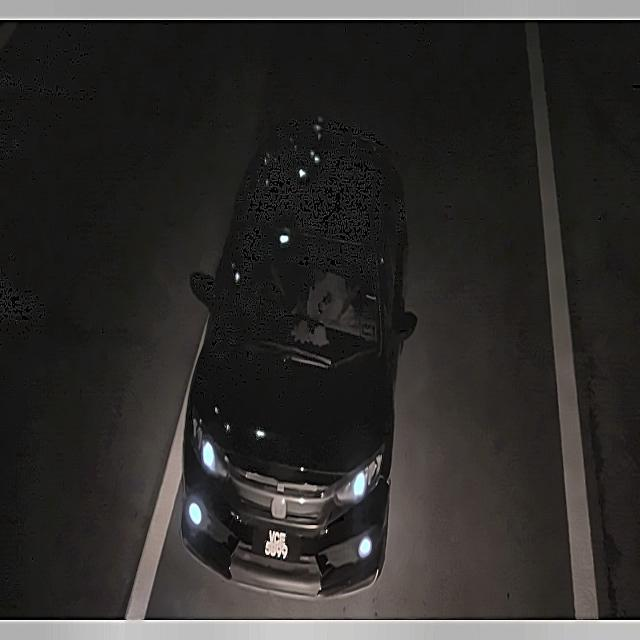car: (248, 518, 306, 567)
